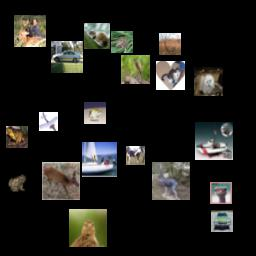airplane: (39, 112, 58, 131)
automobile: (51, 41, 83, 73), (211, 210, 233, 232)
bird: (69, 209, 107, 247), (121, 55, 150, 84), (210, 182, 232, 204)
cat: (156, 61, 185, 90), (84, 23, 110, 49)
deer: (152, 162, 190, 200), (42, 162, 80, 200), (14, 15, 46, 47), (159, 33, 181, 55)
dog: (194, 67, 223, 96)
frog: (84, 102, 106, 124), (111, 31, 133, 53), (6, 126, 28, 148), (8, 174, 27, 193)
ship: (195, 122, 233, 160), (82, 142, 117, 177)
